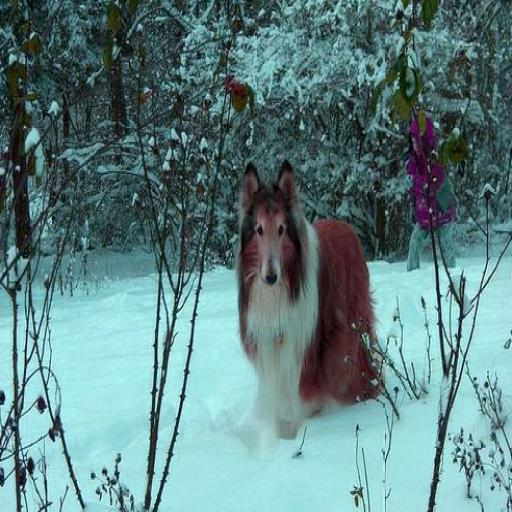dog_face: (235, 158, 302, 293)
